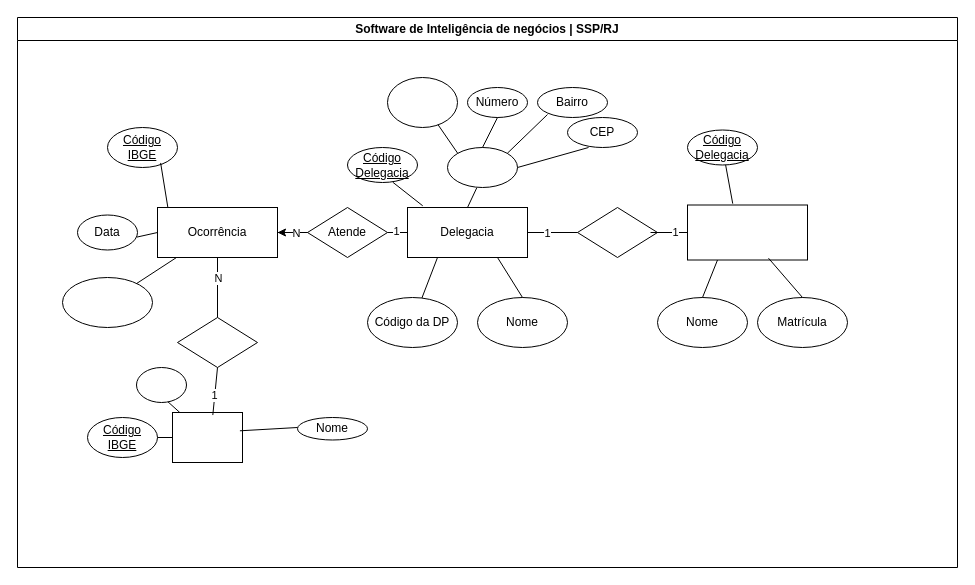
This 975x585 diagram has some shape labels left out. The centre of each missing label's shape, as x and y in pixels:
Coordena: the point at 617,232
Endereço: the point at 482,167
Logradouro: the point at 422,102
Município: the point at 207,437
Registra: the point at 217,342
Região: the point at 161,384
Responsável: the point at 747,232
Tipo: the point at 107,302
